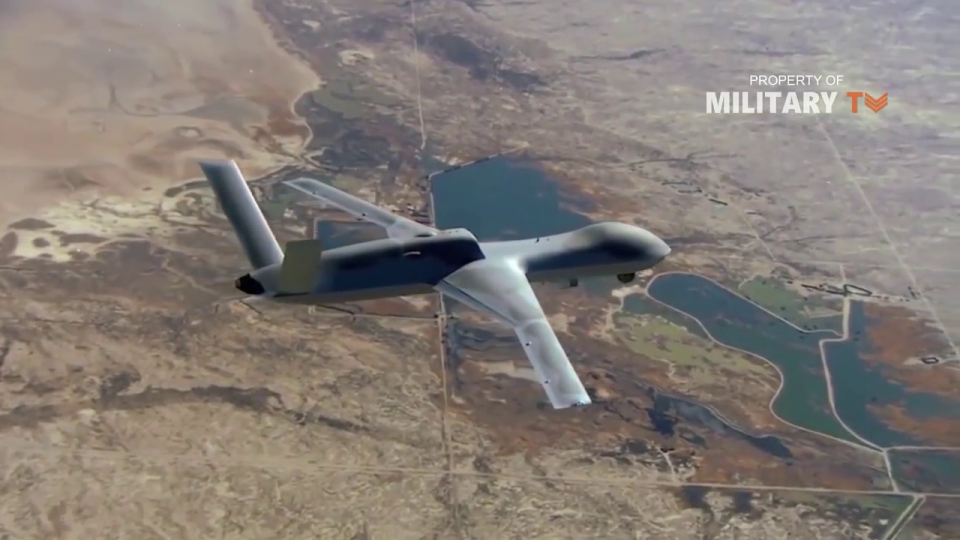military drone: (197, 157, 671, 409)
